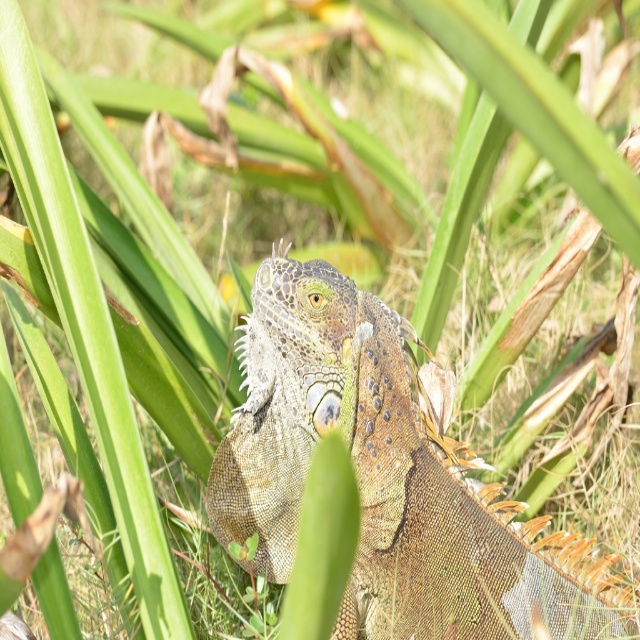Lizard: (206, 236, 640, 640)
